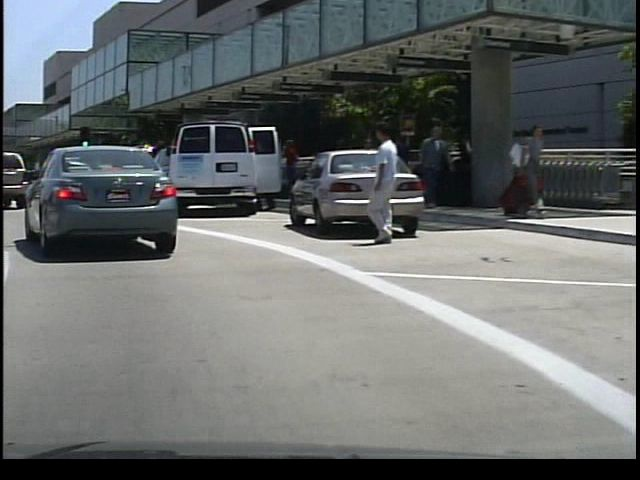person: (357, 118, 403, 246), (505, 118, 543, 219), (417, 123, 448, 209), (277, 134, 301, 201)
